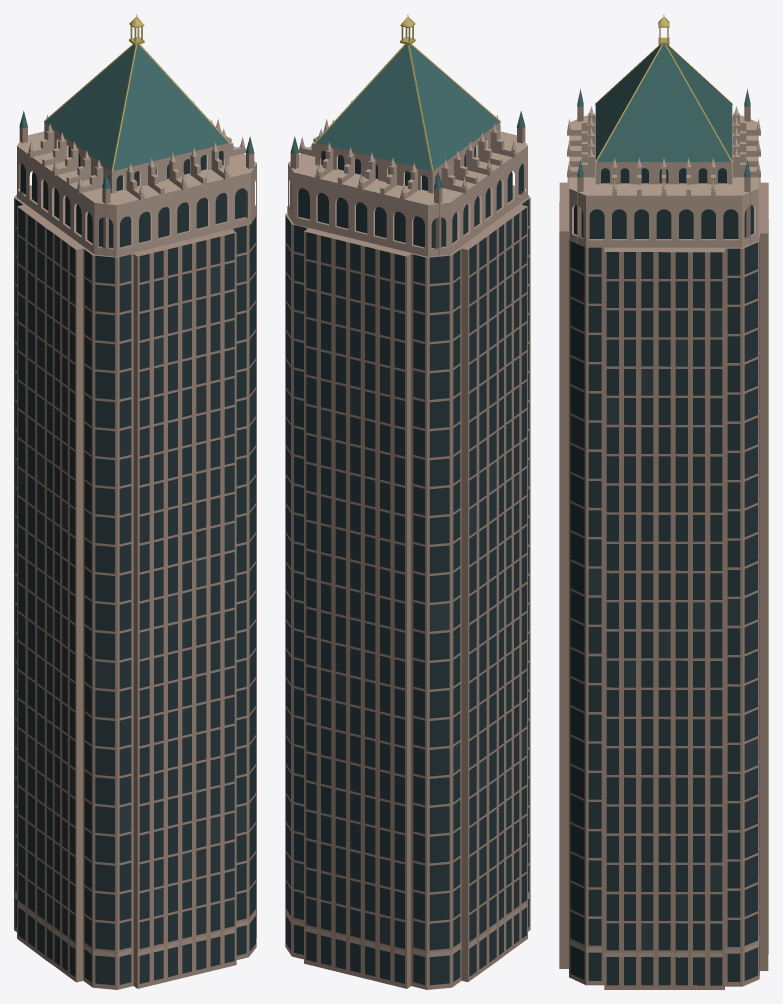
Rendered from one-atlantic-center-far.glb.
3 renders of one model, left to right at view 1: azimuth 30°, elevation 25°; view 2: azimuth 150°, elevation 25°; view 3: azimuth 270°, elevation 25°, orthographic.
Parts seen in each view (by area): view 1: one-atlantic-center-0-glass, one-atlantic-center-0-stone, one-atlantic-center-0-trim, one-atlantic-center-0-copper, one-atlantic-center-0-light, one-atlantic-center-0-glow; view 2: one-atlantic-center-0-glass, one-atlantic-center-0-stone, one-atlantic-center-0-trim, one-atlantic-center-0-copper, one-atlantic-center-0-light, one-atlantic-center-0-glow; view 3: one-atlantic-center-0-glass, one-atlantic-center-0-stone, one-atlantic-center-0-trim, one-atlantic-center-0-copper, one-atlantic-center-0-light, one-atlantic-center-0-glow.
Boxes of the visible parts, box(x1,y1,x2,y2) form: one-atlantic-center-0-glass: box(15, 139, 255, 985); one-atlantic-center-0-stone: box(14, 127, 256, 989); one-atlantic-center-0-trim: box(14, 101, 256, 957); one-atlantic-center-0-copper: box(19, 44, 254, 189); one-atlantic-center-0-light: box(15, 234, 255, 916); one-atlantic-center-0-glow: box(44, 14, 229, 171); one-atlantic-center-0-glass: box(286, 139, 529, 985); one-atlantic-center-0-stone: box(285, 127, 530, 989); one-atlantic-center-0-trim: box(286, 101, 529, 957); one-atlantic-center-0-copper: box(290, 44, 525, 189); one-atlantic-center-0-light: box(286, 218, 529, 949); one-atlantic-center-0-glow: box(315, 14, 500, 171); one-atlantic-center-0-glass: box(570, 168, 759, 985); one-atlantic-center-0-stone: box(559, 106, 768, 989); one-atlantic-center-0-trim: box(567, 106, 760, 957); one-atlantic-center-0-copper: box(577, 44, 750, 177); one-atlantic-center-0-light: box(570, 310, 759, 950); one-atlantic-center-0-glow: box(595, 15, 732, 162).
Bounding box in the file's own units: 51.23 × 250 × 50.95.
